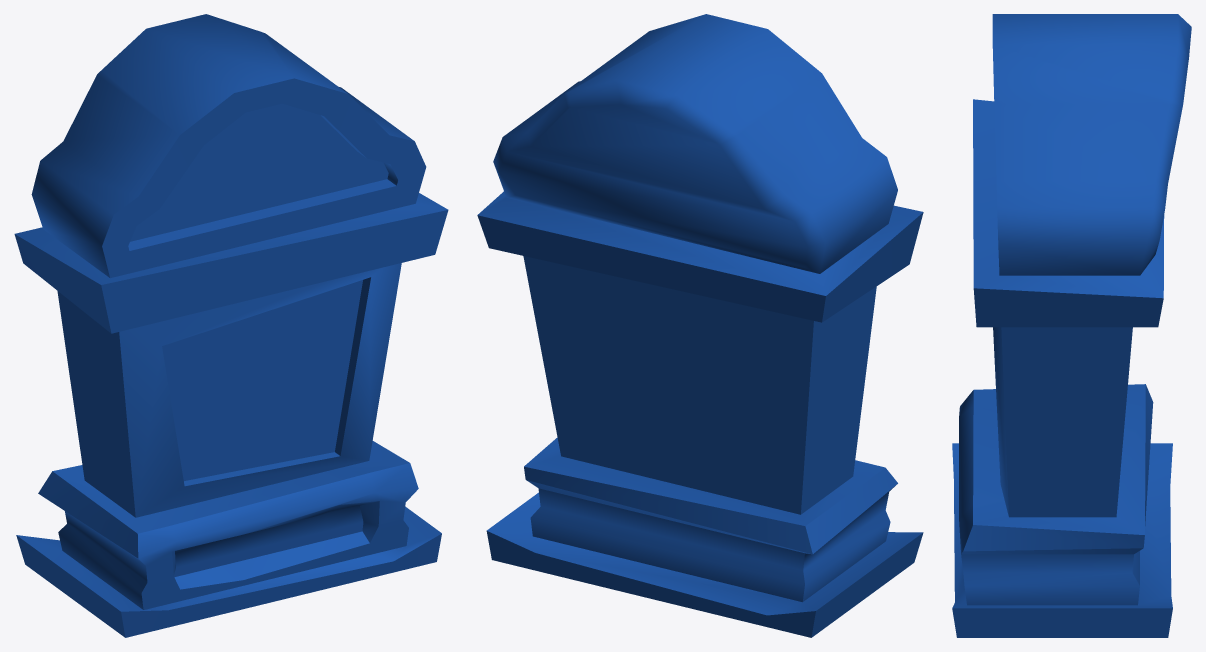
Rendered from MR_Tumba_Dark.FBX.
3 renders of one model, left to right at view 1: azimuth 30°, elevation 25°; view 2: azimuth 150°, elevation 25°; view 3: azimuth 270°, elevation 25°, orthographic. The views are drawn at different scales.
Parts seen in each view (by area): view 1: MR_Tumba_Dark_003; view 2: MR_Tumba_Dark_003; view 3: MR_Tumba_Dark_003.
Boxes of the visible parts, x1,y1,x2,y2 form: MR_Tumba_Dark_003: (14, 14, 448, 637); MR_Tumba_Dark_003: (477, 14, 923, 637); MR_Tumba_Dark_003: (952, 14, 1191, 637).
Size of the model in its own units: 1.59 by 2.19 by 0.9007.
